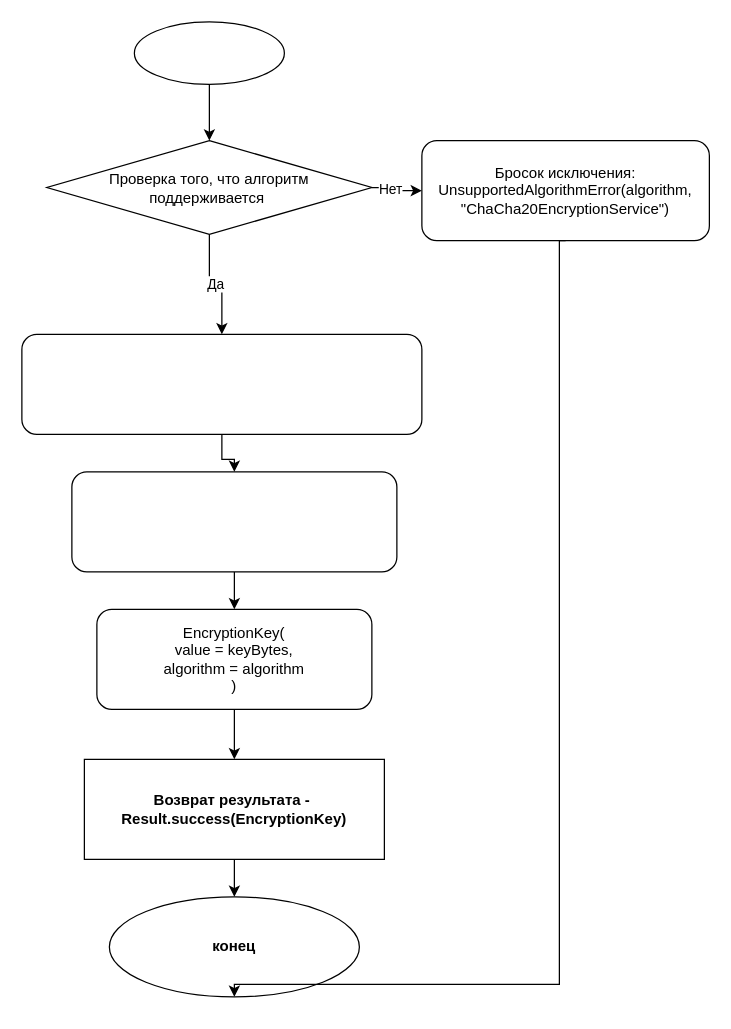
Image size: 731x1029. Some labels were removed from this diagram. Each missing label, with the centre of its shape:
"keyBytes = ByteArray(keySize) SecureRandom().nextBytes(keyBytes)" belongs at point (234, 521).
"keySize = ChaCha20Key.SIZE_BYTES keySize = 32 байта (256 бит)" belongs at point (221, 383).
"начало" belongs at point (208, 52).
